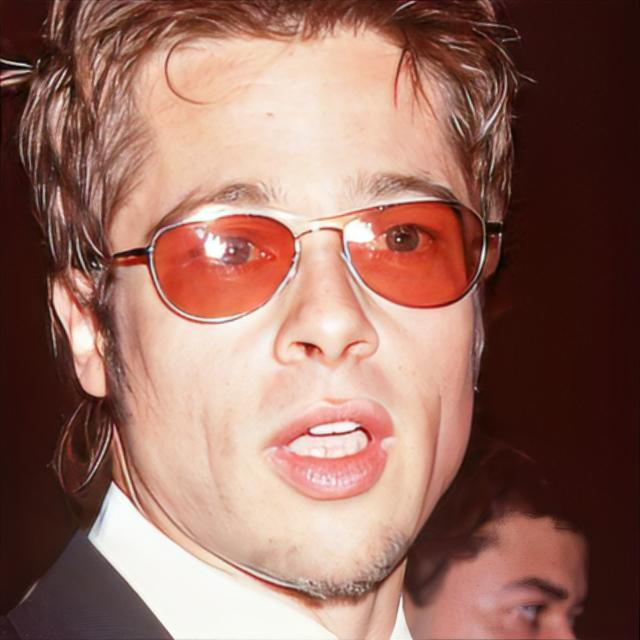surprise: (109, 21, 477, 602)
